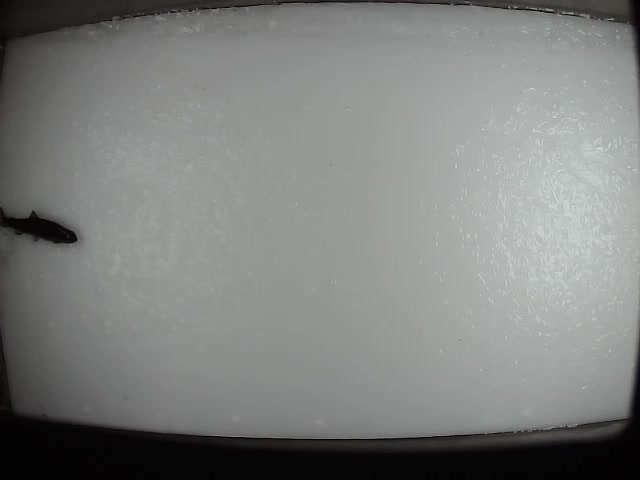Fish: (1, 205, 78, 244)
